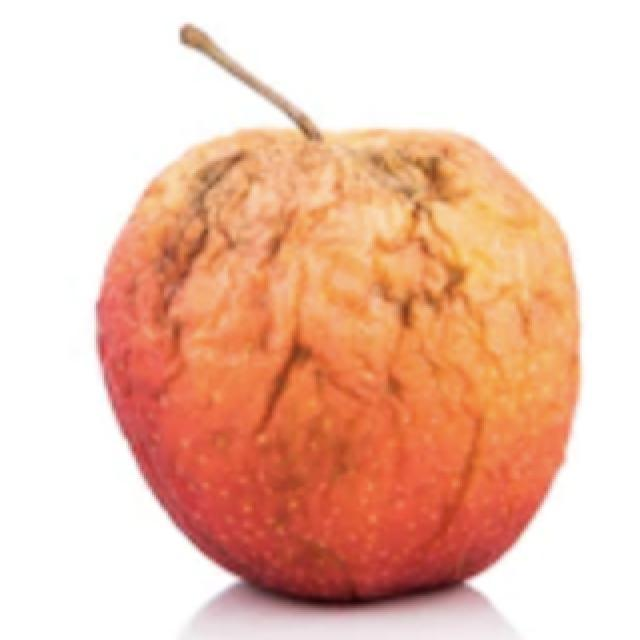Rotten: (90, 117, 586, 598)
